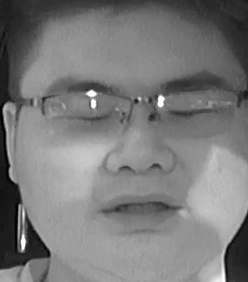blink: (69, 108, 113, 127), (169, 105, 212, 123)
glass: (148, 87, 243, 139), (42, 90, 132, 144)
mouth: (101, 189, 180, 231)
